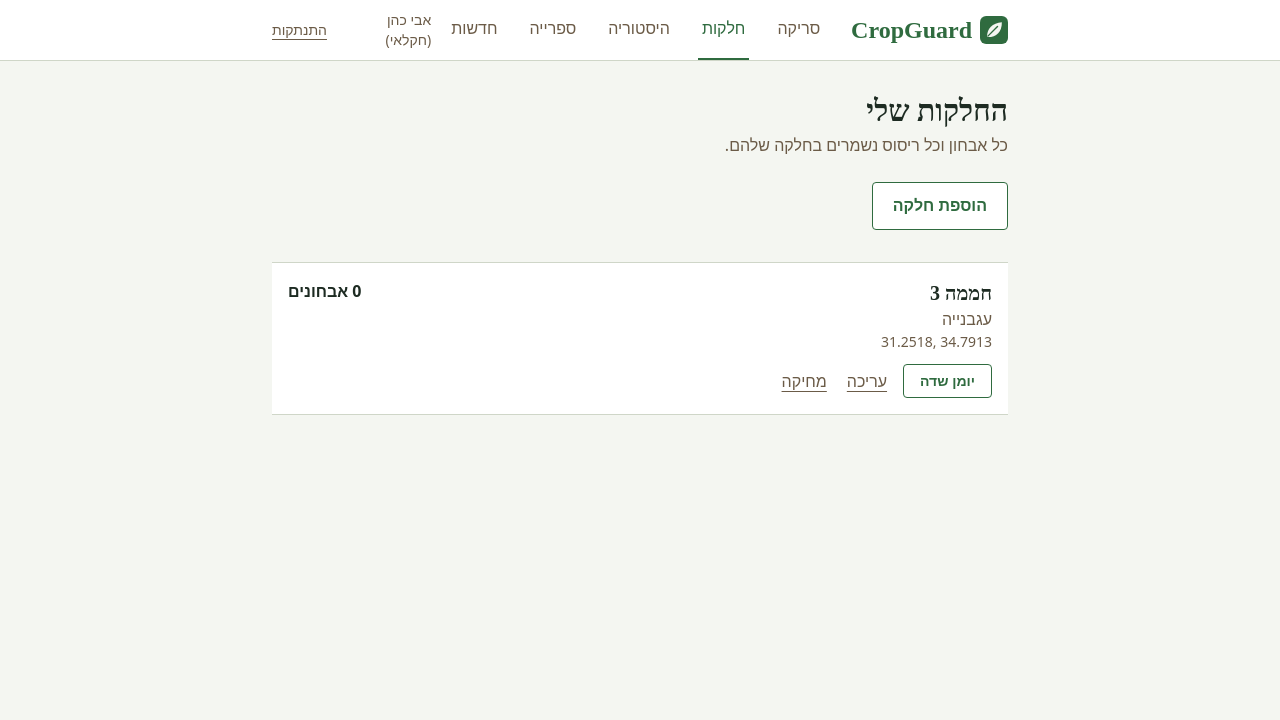
it: login › logs out from the header
Click the button "התנתקות": (300, 30) [272,20,327,40]
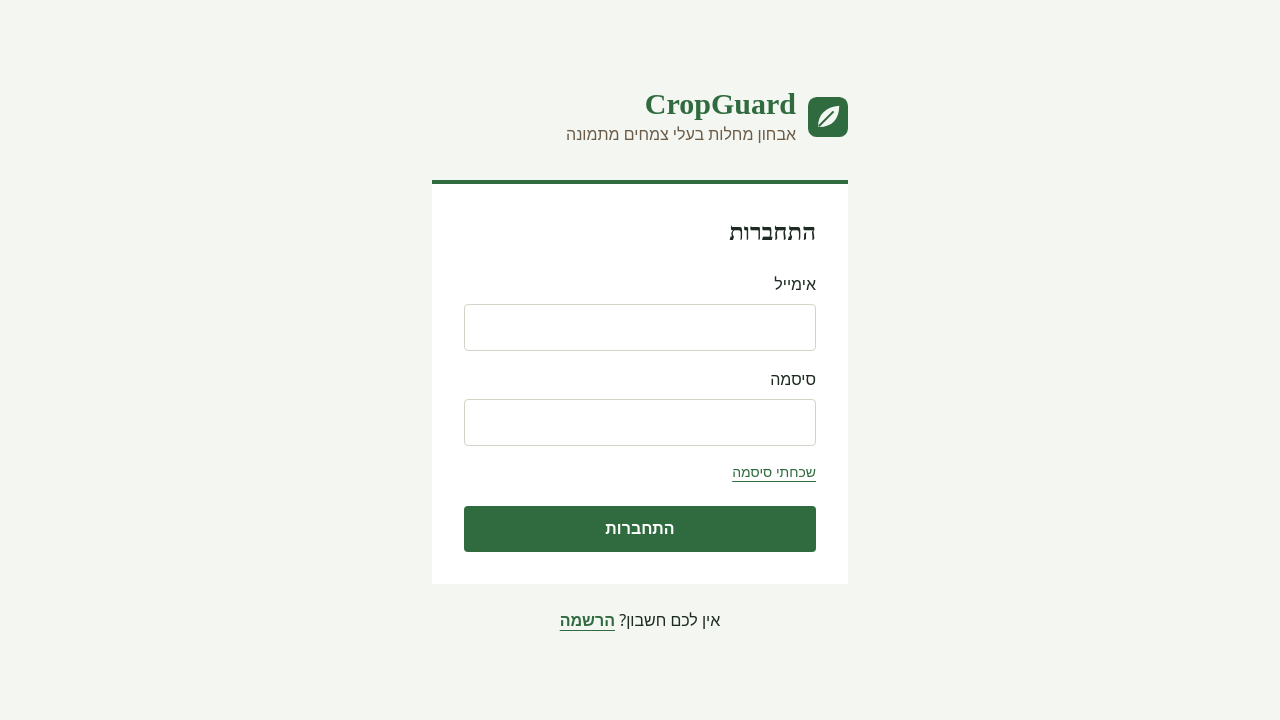
Expected: the heading "התחברות" is shown, [729,219,816,245]
